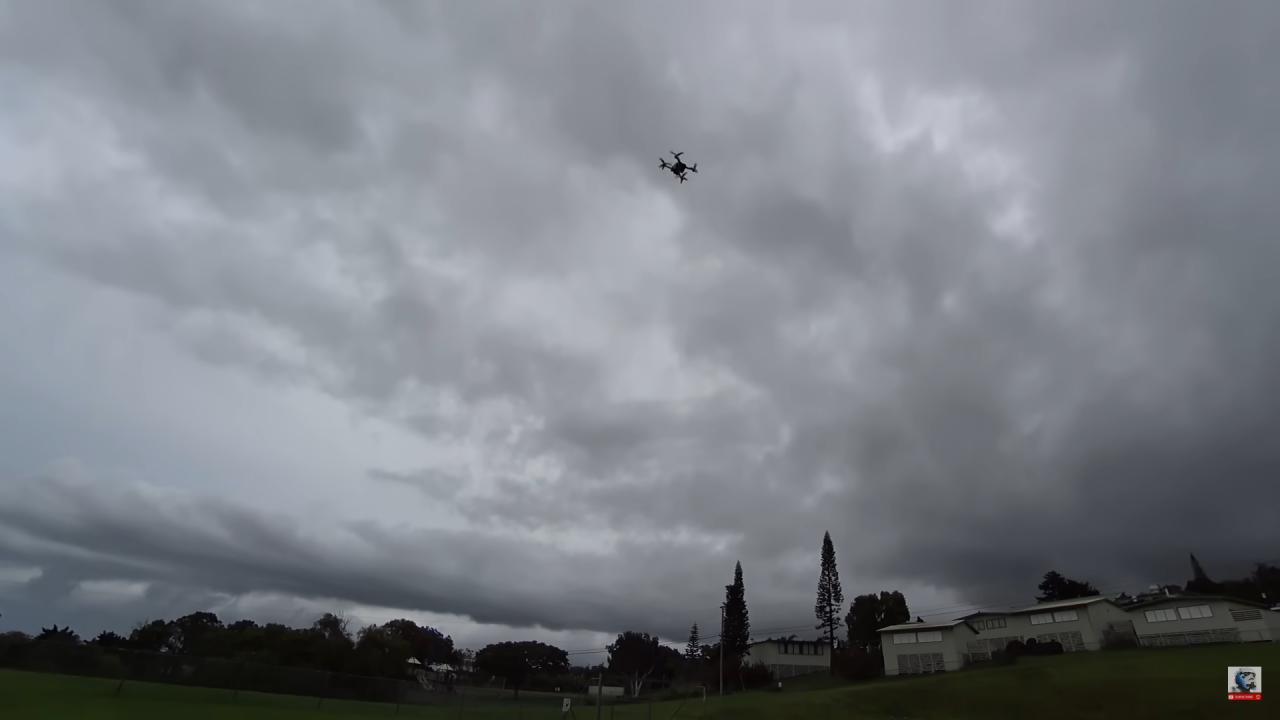Drone: (654, 144, 704, 188)
